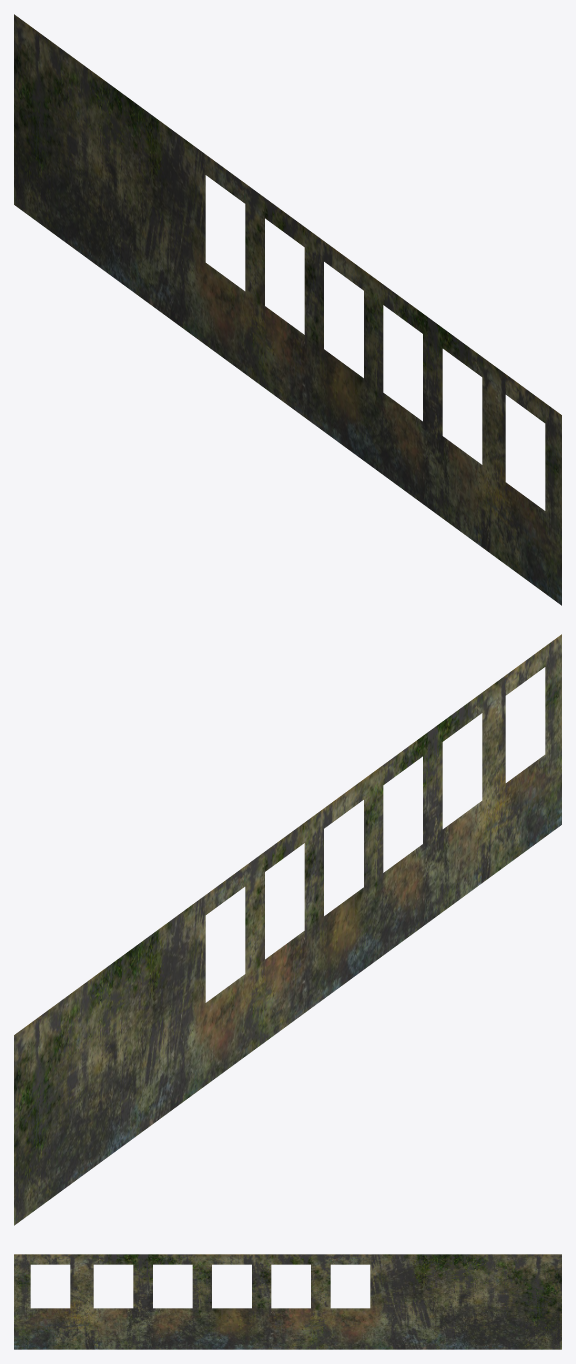
The model's file is Wall_09.FBX.
3 views of the same model, one above another, from view 1: azimuth 30°, elevation 25°; view 2: azimuth 150°, elevation 25°; view 3: azimuth 270°, elevation 25° (orthographic). The views are drawn at different scales.
Parts seen in each view (by area): view 1: Wall_09; view 2: Wall_09; view 3: Wall_09.
Boxes of the visible parts, x1=… form: Wall_09: x1=14, y1=14, x2=561, y2=605; Wall_09: x1=14, y1=634, x2=561, y2=1225; Wall_09: x1=14, y1=1254, x2=561, y2=1349.
Size of the model in its own units: 0.0119 by 320 by 1667.
